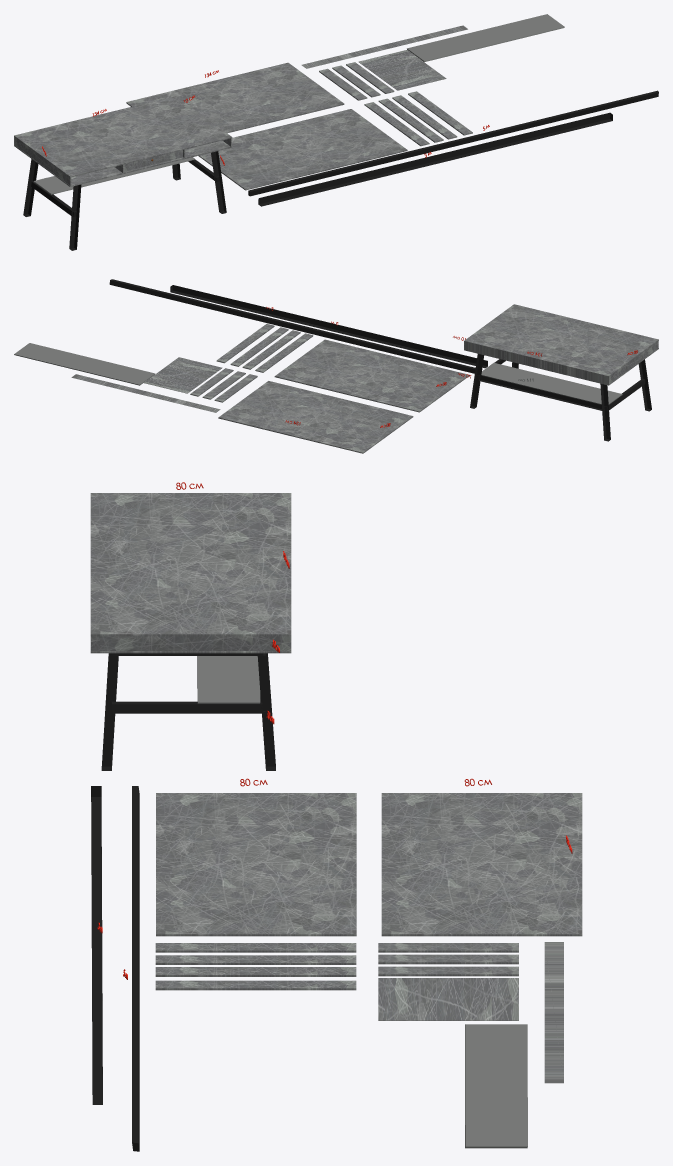
File: table_01.glb
The picture shows the model from 3 angles, top to bottom: view 1: azimuth 30°, elevation 25°; view 2: azimuth 150°, elevation 25°; view 3: azimuth 270°, elevation 25°; orthographic projection. The views are drawn at different scales.
Visible parts, largest first — view 1: Plane.009, Plane.017, Plane.016, Plane.029, Plane.028, Plane.027, Plane.026, Plane, Plane.022, Plane.008, Plane.018, Plane.019 (+11 smaller); view 2: Plane.009, Plane.017, Plane.016, Plane.029, Plane.028, Plane.027, Plane.008, Plane.026, Plane.032, Plane.022, Plane.020, Plane.021 (+11 smaller); view 3: Plane.009, Plane.016, Plane.017, Plane.027, Plane.026, Plane.029, Plane.008, Plane.011, Plane.028, Plane.022, Plane.021, Plane.018 (+8 smaller).
Part boxes in pixels (x1,y1,x2,y2): Plane.009: (14, 96, 232, 177); Plane.017: (198, 109, 407, 190); Plane.016: (126, 62, 344, 133); Plane.029: (258, 112, 612, 206); Plane.028: (248, 90, 658, 196); Plane.027: (407, 14, 564, 61); Plane.026: (358, 50, 446, 90); Plane: (14, 140, 232, 186); Plane.022: (301, 25, 467, 68); Plane.008: (33, 157, 194, 194); Plane.018: (364, 102, 429, 146); Plane.019: (378, 98, 443, 142); Plane.009: (464, 304, 658, 384); Plane.017: (274, 339, 469, 412); Plane.016: (218, 381, 413, 453); Plane.029: (170, 285, 487, 368); Plane.028: (109, 279, 475, 373); Plane.027: (14, 343, 155, 385); Plane.008: (481, 363, 622, 404); Plane.026: (144, 357, 222, 393); Plane.032: (478, 375, 604, 411); Plane.022: (71, 374, 220, 412); Plane.020: (230, 327, 288, 366); Plane.021: (216, 324, 274, 363); Plane.009: (90, 493, 291, 636); Plane.016: (381, 793, 582, 936); Plane.017: (156, 793, 356, 936); Plane.027: (465, 1024, 527, 1148); Plane.026: (378, 978, 518, 1020); Plane.029: (91, 786, 102, 1104); Plane.008: (197, 656, 260, 703); Plane.011: (91, 636, 291, 650); Plane.028: (132, 786, 139, 1151); Plane.022: (544, 942, 563, 1083); Plane.021: (155, 980, 356, 990); Plane.018: (155, 943, 356, 952).
Bounding box in the file's own units: 4.96 × 0.6668 × 1.96.
Materials: 7 (4 with a texture image).
